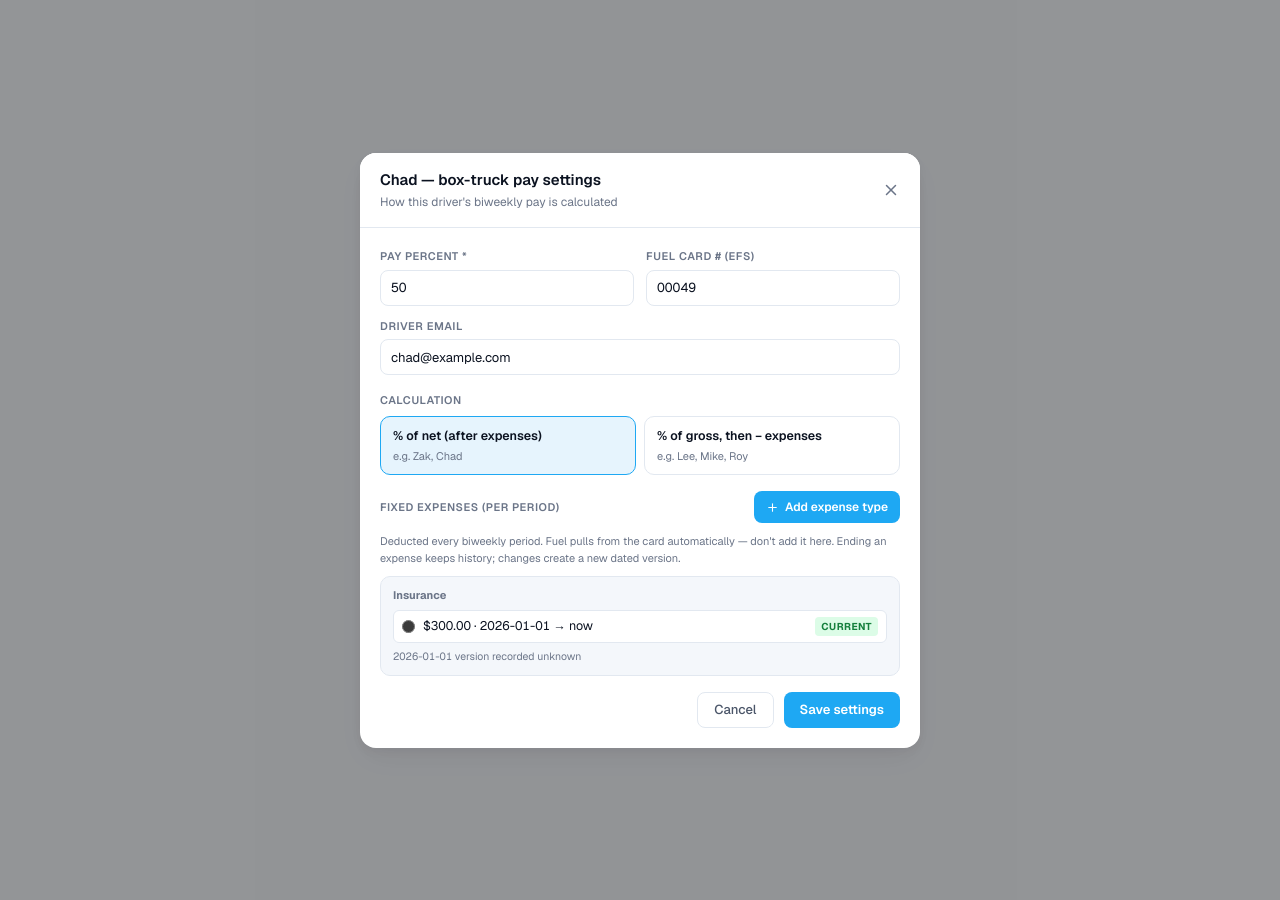
BoxTruckSettingsModal fixed-expense wiring › does not expose mileage calculation controls (Amazon-only feature)
The image size is (1280, 900).
Click the button "Add expense type". click: (827, 507)
box: [754, 491, 900, 523]
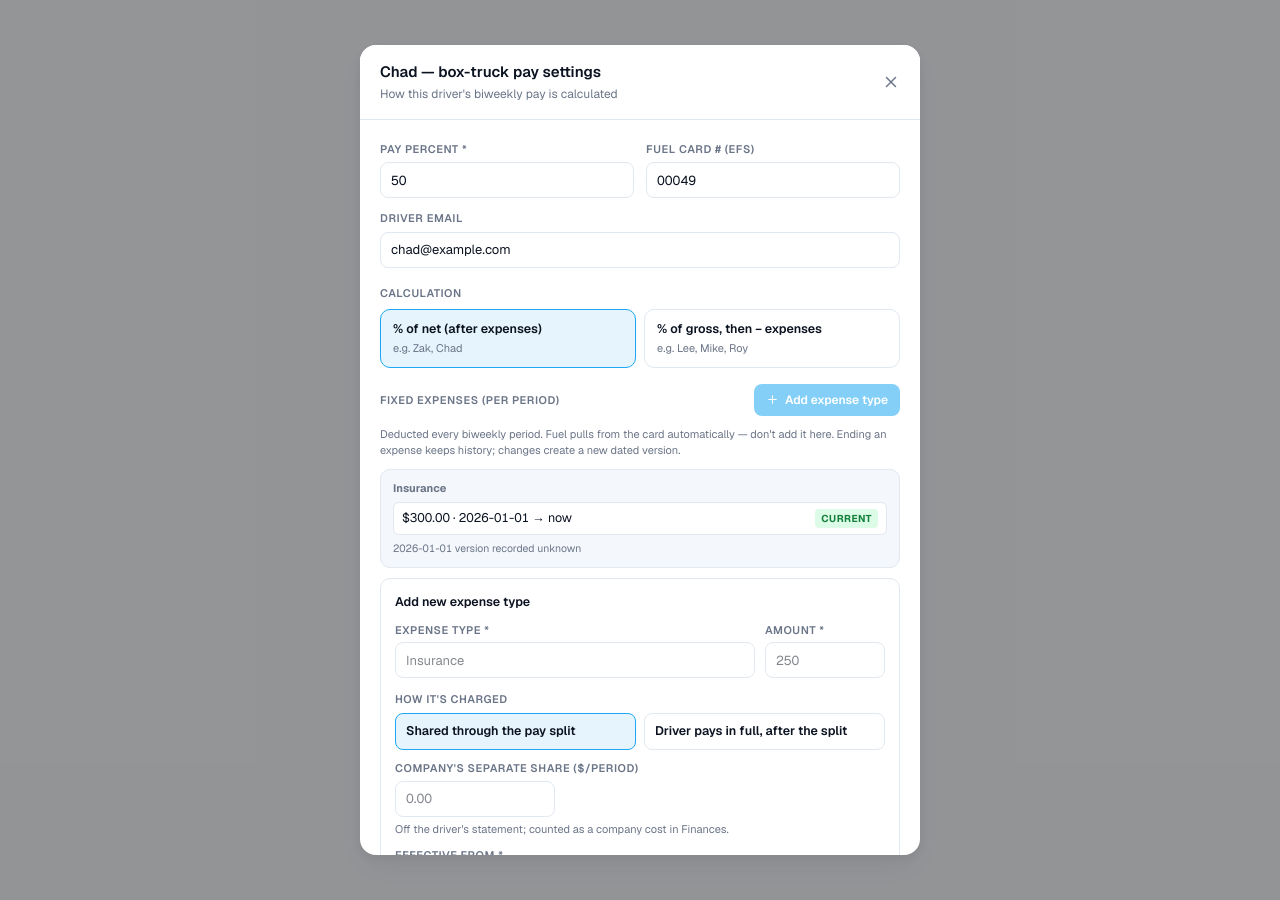
Expected: the field labelled "Amount *" is shown, [765, 642, 885, 678]
